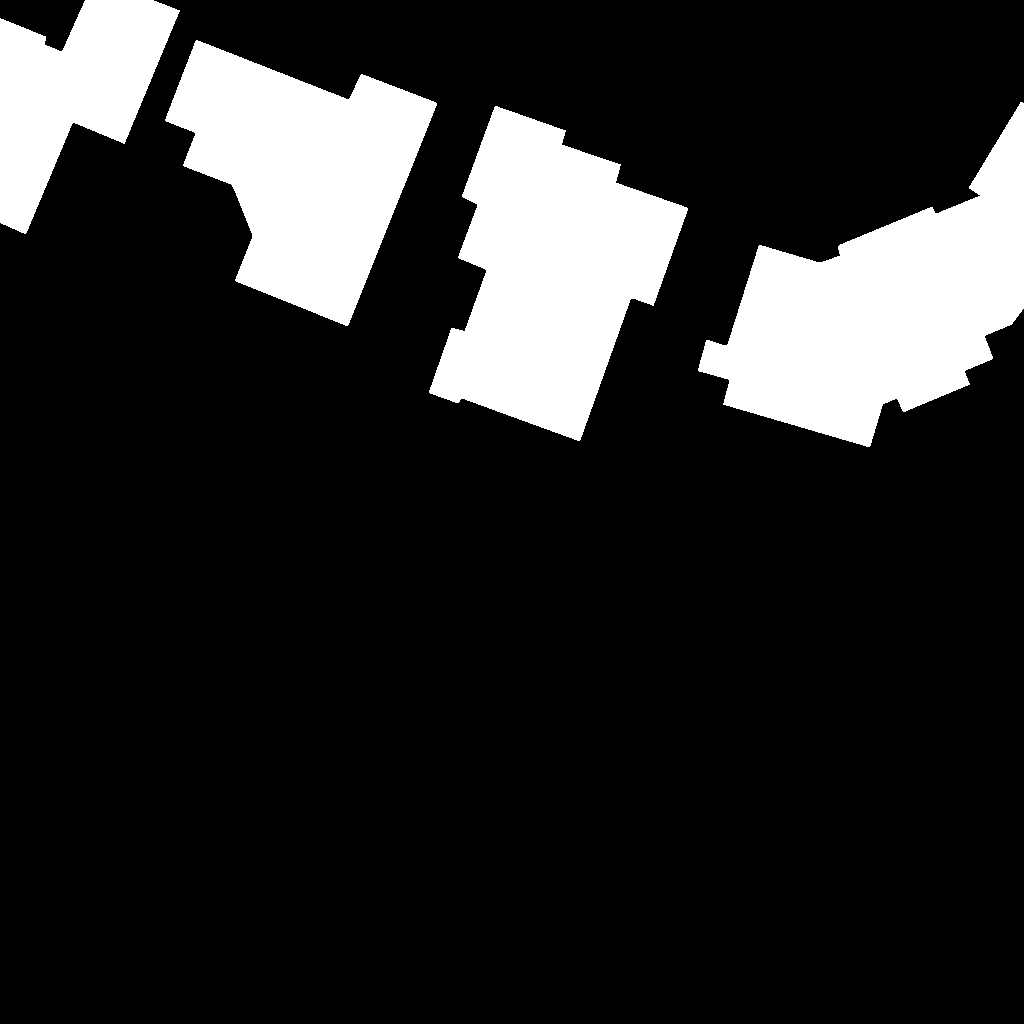building: (698, 102, 1024, 448), (429, 106, 689, 442), (165, 40, 438, 327), (0, 0, 181, 235)
